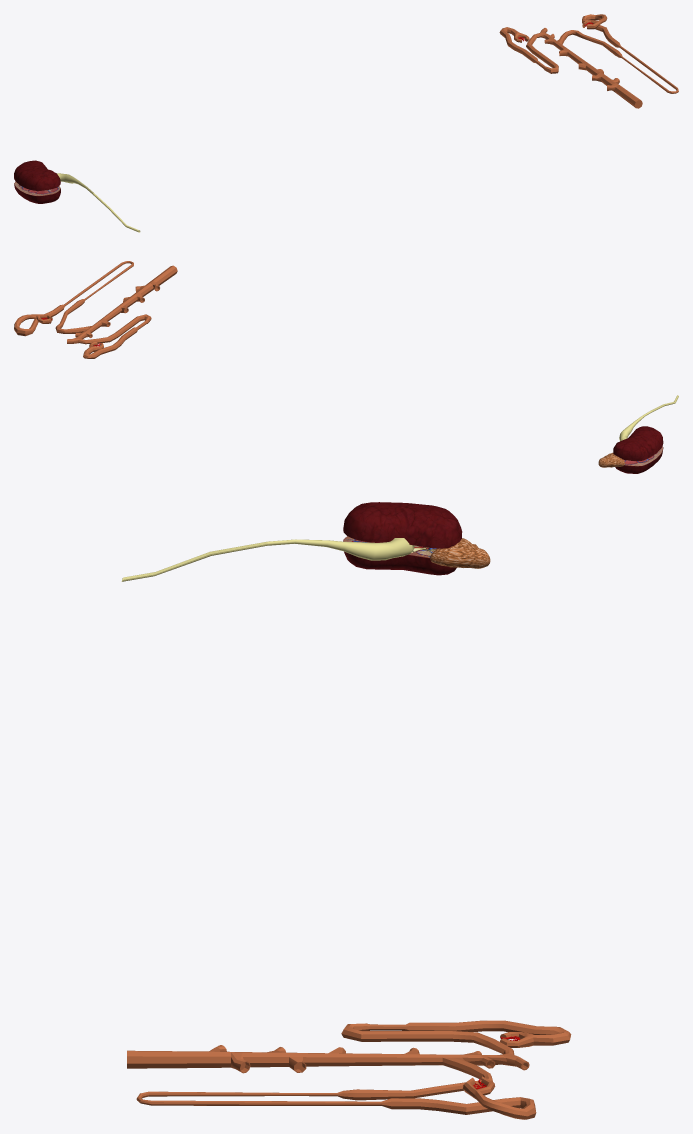
Rendered from KIDNY AND G.fbx.
3 views of the same model, one above another, from view 1: azimuth 30°, elevation 25°; view 2: azimuth 150°, elevation 25°; view 3: azimuth 270°, elevation 25° (orthographic). The views are drawn at different scales.
Visible parts, largest first — view 1: pasted__pCylinder5, polySurface8; view 2: pasted__pCylinder5, polySurface8; view 3: pasted__pCylinder5, polySurface8.
Part boxes in pixels (box(x1,y1,x2,y2)): pasted__pCylinder5: box(499, 14, 678, 108); polySurface8: box(14, 160, 140, 232); pasted__pCylinder5: box(14, 261, 177, 358); polySurface8: box(598, 395, 678, 473); pasted__pCylinder5: box(127, 1020, 571, 1119); polySurface8: box(121, 502, 490, 581).
Bounding box in the file's own units: 309 × 14.84 × 98.54.
Materials: 6 (3 with a texture image).
